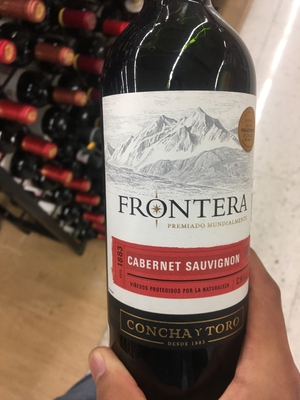frontera cabernet sauvignon: (100, 16, 259, 391)
